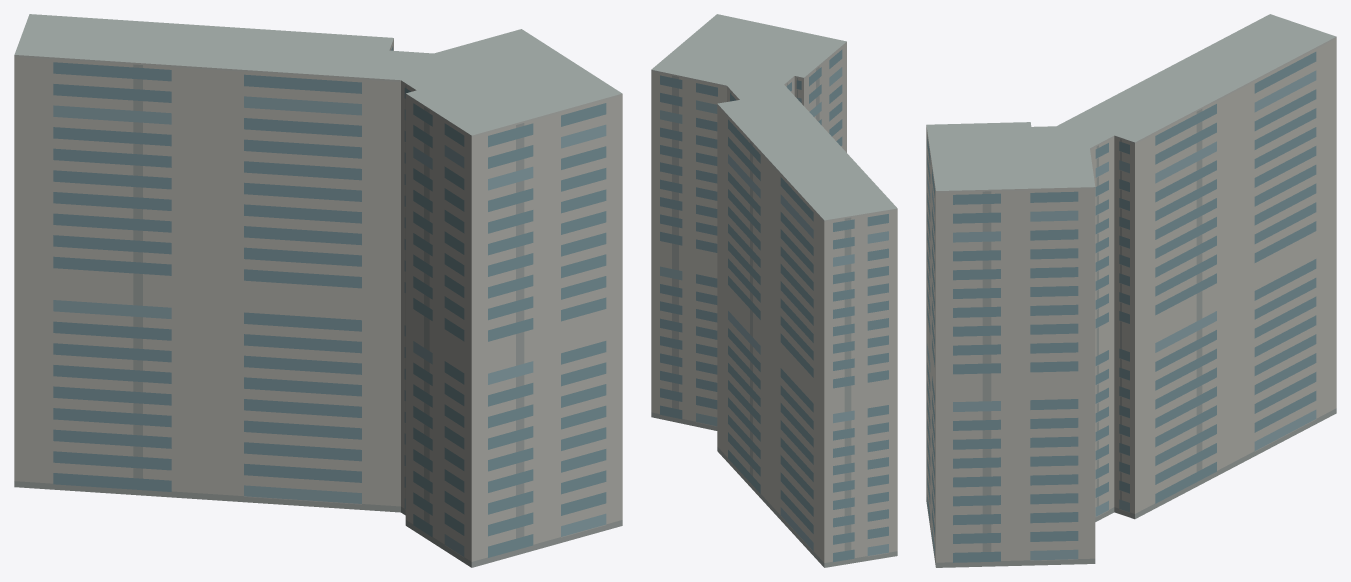
File: residential-68e1383a-ffdc-42ad-8353-cf23229a90f9.glb
3 views of the same model, side by side, from view 1: azimuth 30°, elevation 25°; view 2: azimuth 150°, elevation 25°; view 3: azimuth 270°, elevation 25° (orthographic). The views are drawn at different scales.
Parts seen in each view (by area): view 1: residential-68e1383a-ffdc-42ad-8353-cf23229a90f9.tmp; view 2: residential-68e1383a-ffdc-42ad-8353-cf23229a90f9.tmp; view 3: residential-68e1383a-ffdc-42ad-8353-cf23229a90f9.tmp.
Boxes of the visible parts, left/top/right/bottom form: residential-68e1383a-ffdc-42ad-8353-cf23229a90f9.tmp: left=14, top=14, right=622, bottom=567; residential-68e1383a-ffdc-42ad-8353-cf23229a90f9.tmp: left=651, top=14, right=897, bottom=567; residential-68e1383a-ffdc-42ad-8353-cf23229a90f9.tmp: left=926, top=14, right=1336, bottom=567.
Bounding box in the file's own units: 58.48 × 58 × 57.22.
